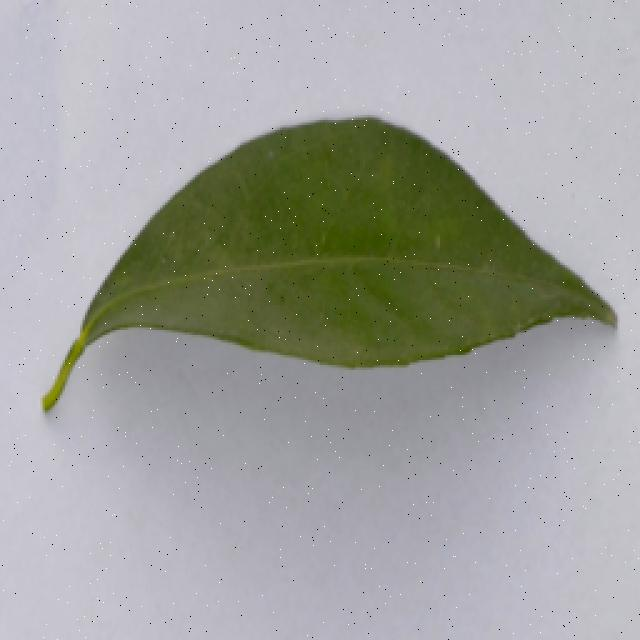healthy: (39, 112, 620, 434)
